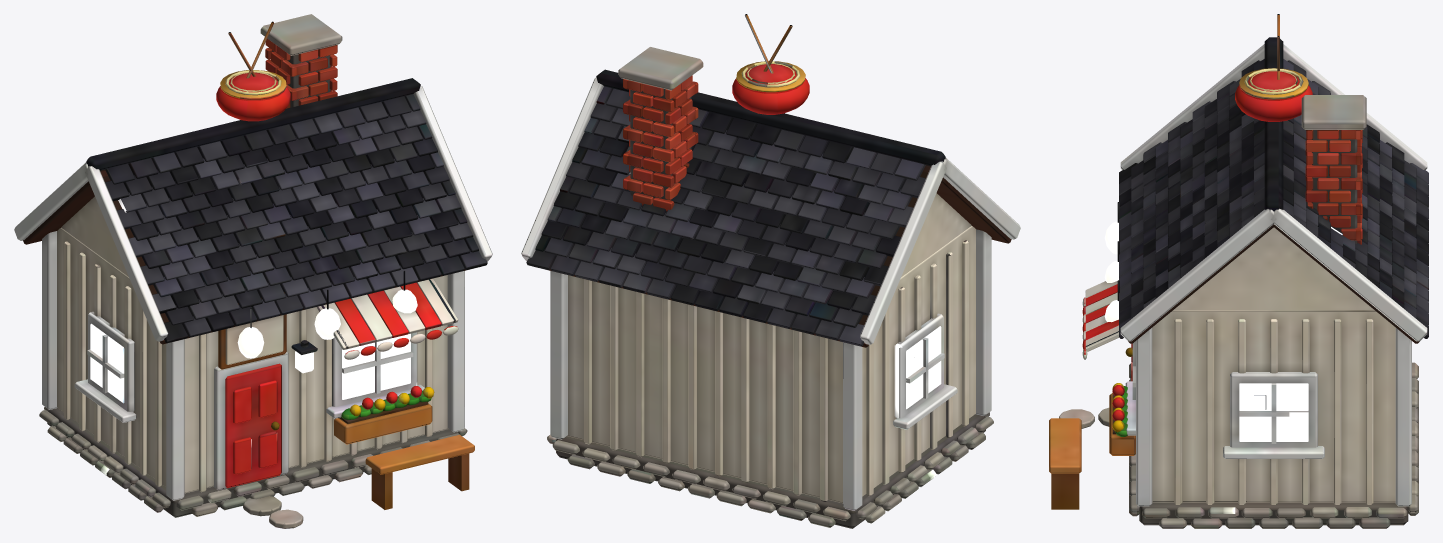
File: noodle_bar.glb
The picture shows the model from 3 angles, left to right: view 1: azimuth 30°, elevation 25°; view 2: azimuth 150°, elevation 25°; view 3: azimuth 270°, elevation 25°; orthographic projection. The views are drawn at different scales.
Parts seen in each view (by area): view 1: noodle_bar; view 2: noodle_bar; view 3: noodle_bar.
Boxes of the visible parts, box(x1,y1,x2,y2) form: noodle_bar: box(14, 14, 492, 528); noodle_bar: box(521, 14, 1020, 528); noodle_bar: box(1049, 14, 1428, 528).
Size of the model in its own units: 1.74 by 2.04 by 1.64.
1 material, 1 textured.
